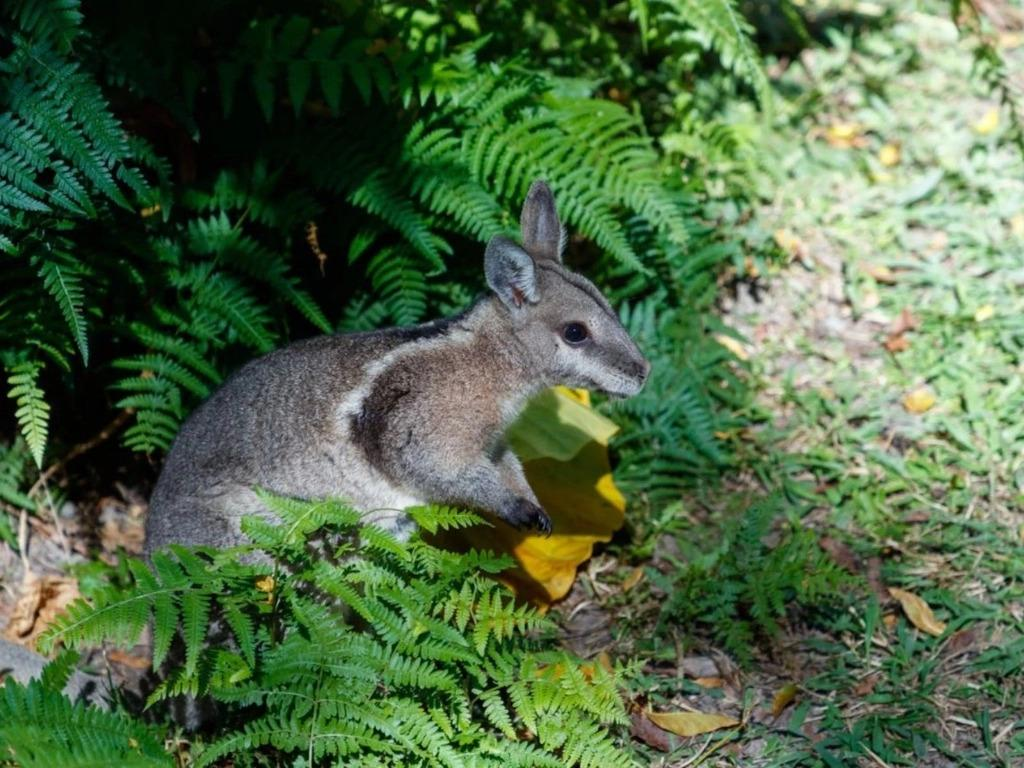Bridled-nail-tail wallaby: (141, 179, 652, 631)
